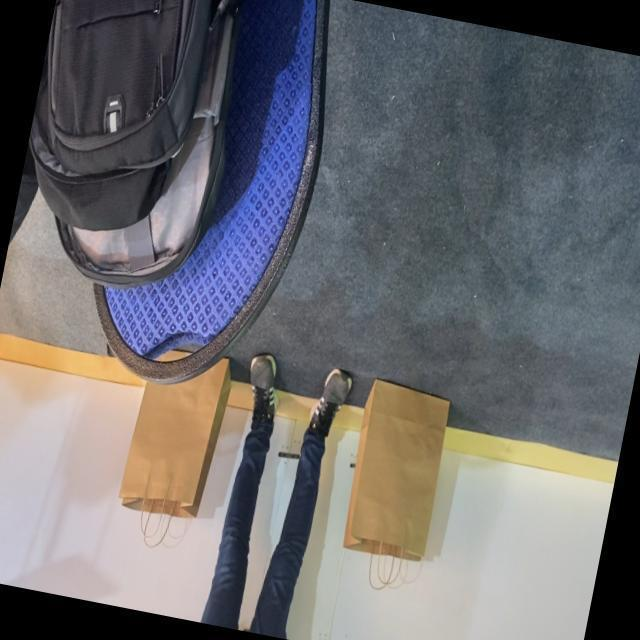Paper_Bag: (330, 378, 456, 598), (110, 343, 237, 558)
